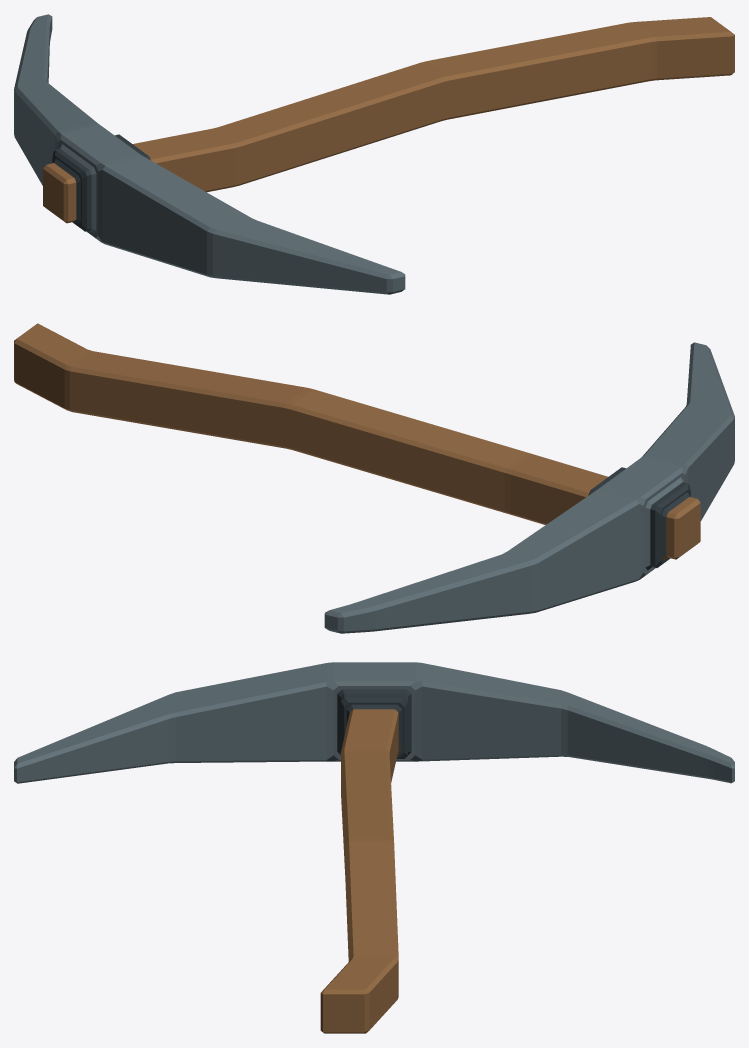
The model's file is pickaxe_1.fbx.
3 views of the same model, one above another, from view 1: azimuth 30°, elevation 25°; view 2: azimuth 150°, elevation 25°; view 3: azimuth 270°, elevation 25° (orthographic). The views are drawn at different scales.
Visible parts, largest first — view 1: Cube; view 2: Cube; view 3: Cube.
Part boxes in pixels (box(x1,y1,x2,y2)): Cube: box(14, 14, 734, 294); Cube: box(14, 323, 734, 633); Cube: box(14, 662, 734, 1033).
Size of the model in its own units: 0.9142 by 0.1055 by 0.8585.
